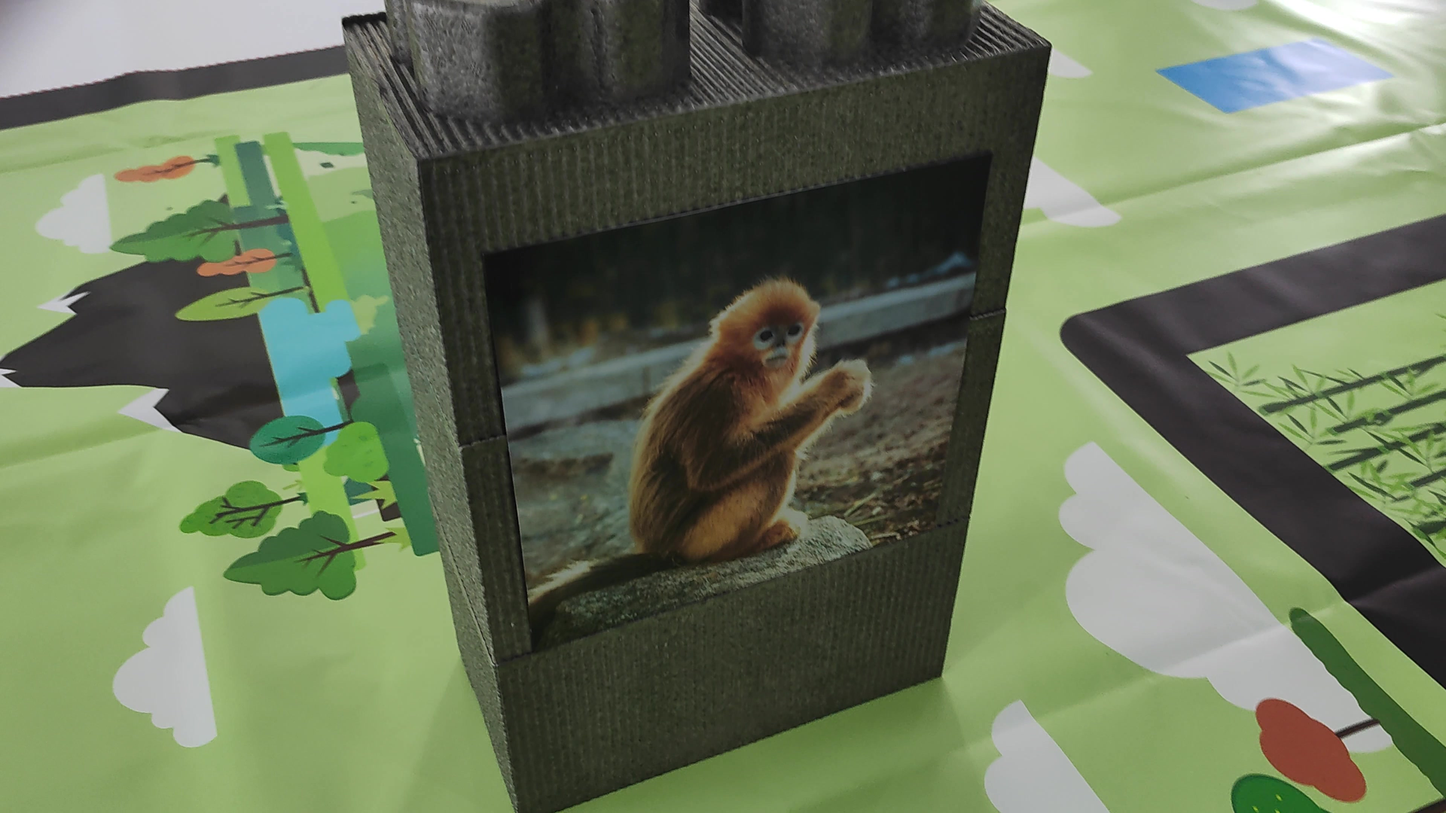monkey: (519, 268, 891, 626)
